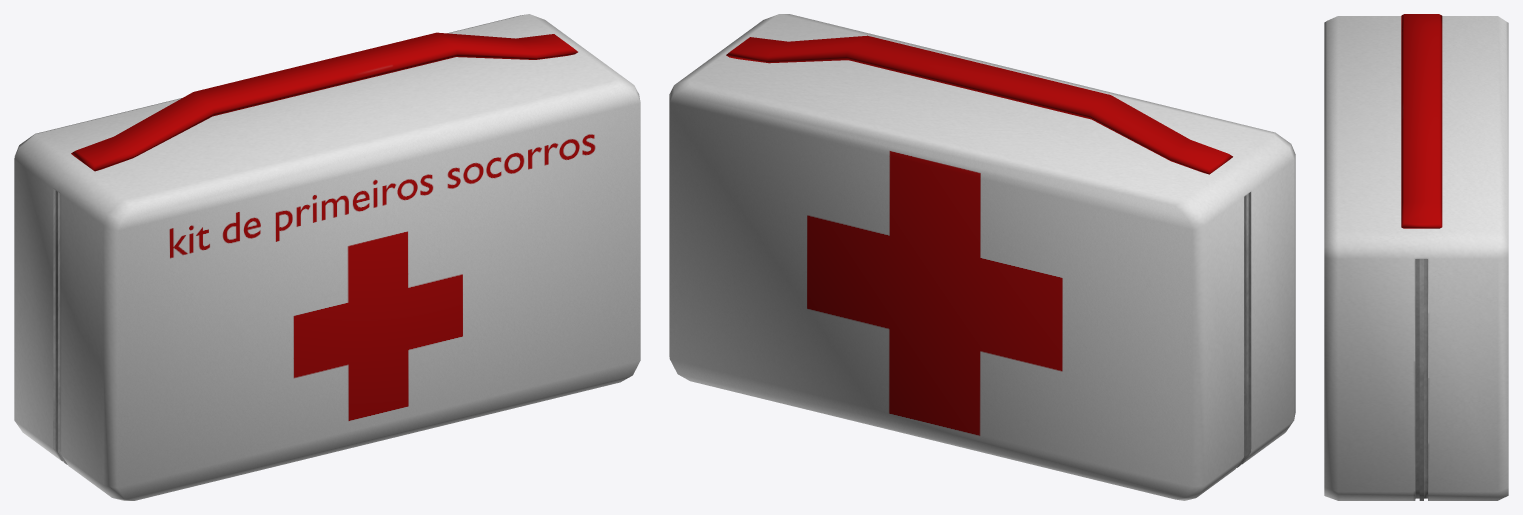
Rendered from KitDePrimeirosSocorros.fbx.
3 renders of one model, left to right at view 1: azimuth 30°, elevation 25°; view 2: azimuth 150°, elevation 25°; view 3: azimuth 270°, elevation 25°, orthographic. The views are drawn at different scales.
Parts seen in each view (by area): view 1: KitDePrimeirosSocorros; view 2: KitDePrimeirosSocorros; view 3: KitDePrimeirosSocorros.
Boxes of the visible parts, bbox=[...] form: KitDePrimeirosSocorros: bbox=[14, 14, 640, 500]; KitDePrimeirosSocorros: bbox=[669, 14, 1295, 500]; KitDePrimeirosSocorros: bbox=[1324, 14, 1508, 500].
Size of the model in its own units: 58.43 by 36.25 by 19.44.
